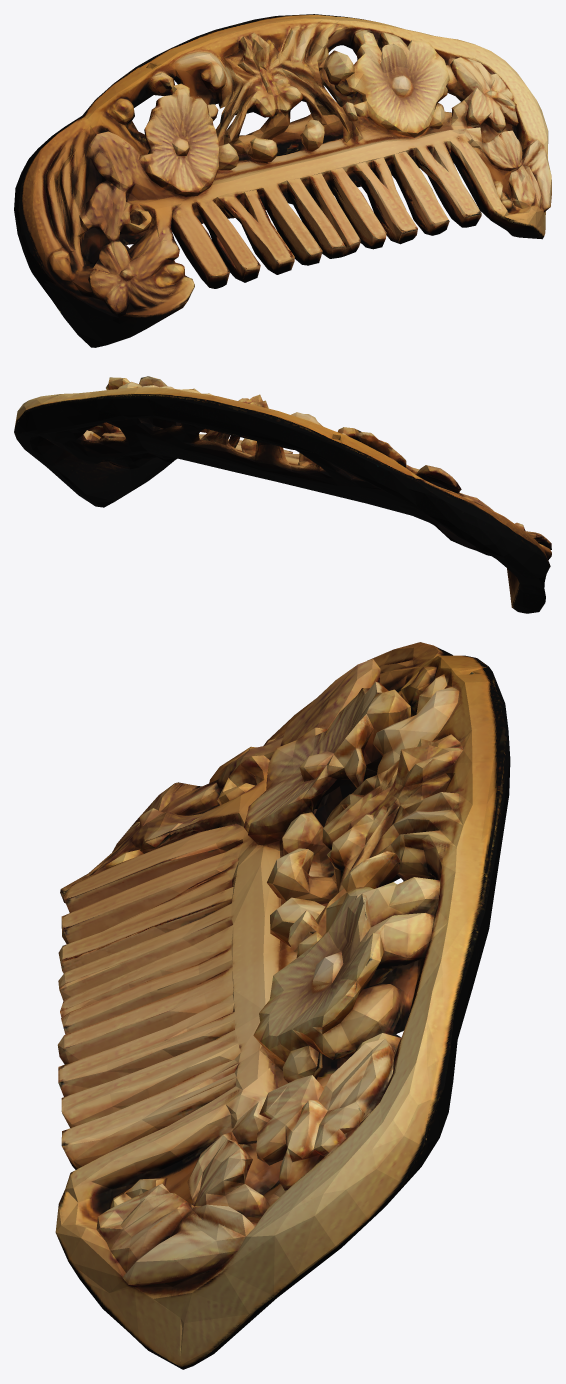
File: wooden-comb-vintage.jpeg.glb
The picture shows the model from 3 angles, top to bottom: view 1: azimuth 30°, elevation 25°; view 2: azimuth 150°, elevation 25°; view 3: azimuth 270°, elevation 25°; orthographic projection. The views are drawn at different scales.
Visible parts, largest first — view 1: world; view 2: world; view 3: world.
Part boxes in pixels (x1,y1,x2,y2): world: (14, 14, 551, 347); world: (14, 376, 551, 613); world: (55, 642, 510, 1369).
Size of the model in its own units: 0.9937 by 0.3872 by 0.381.
1 material, 1 textured.
